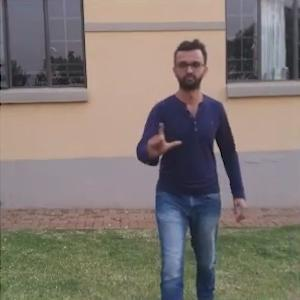land_hand: (144, 118, 183, 160)
